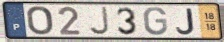2: (57, 6, 82, 36)
3: (115, 6, 138, 36)
G: (143, 6, 170, 37)
J: (88, 6, 111, 36), (175, 8, 196, 36)
O: (26, 5, 55, 36)
